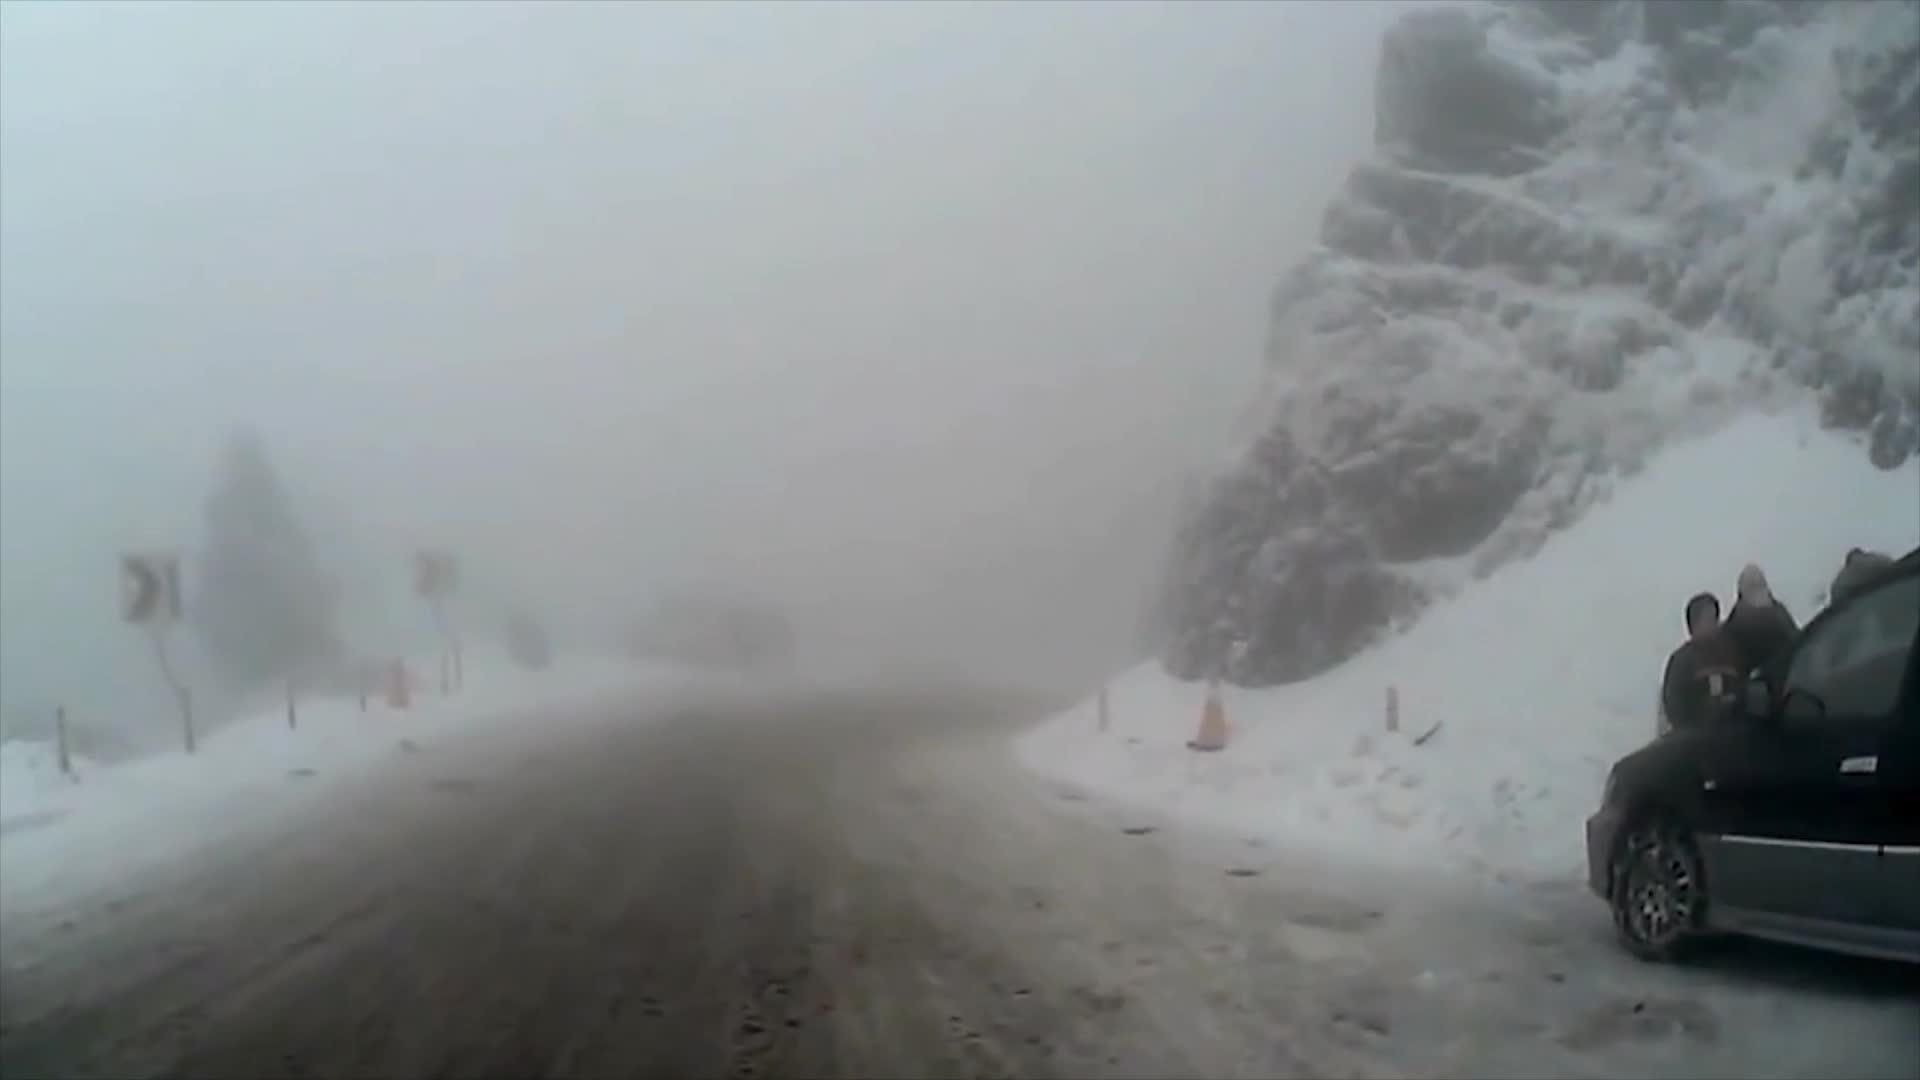pedestrian: (1660, 595, 1755, 903), (1726, 569, 1816, 855)
vehicle: (1583, 558, 1919, 975)
